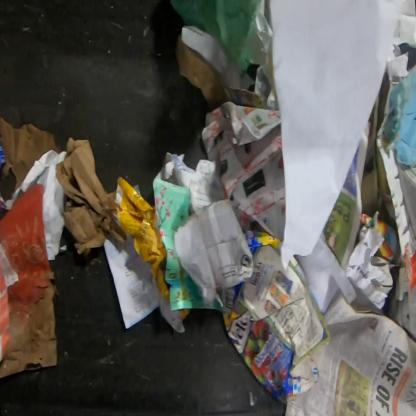cardboard: (223, 229, 331, 406), (151, 151, 233, 314), (172, 153, 254, 304), (0, 182, 62, 379), (376, 49, 415, 303), (56, 135, 128, 262), (174, 32, 270, 113), (114, 175, 170, 304), (0, 116, 65, 193), (176, 308, 193, 323)
